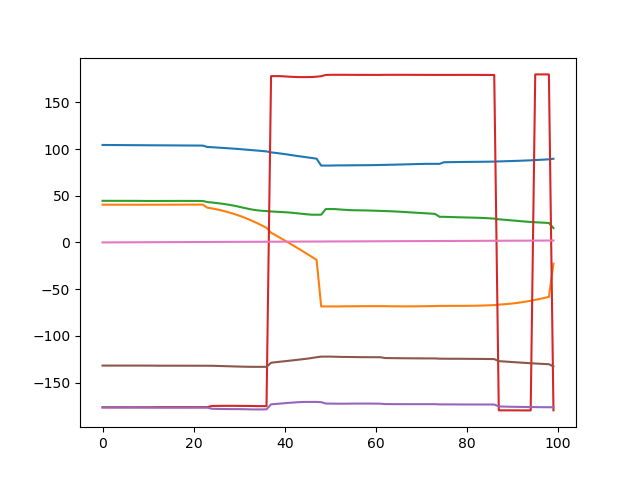Too_Fast: (2, 1, 640, 480)
